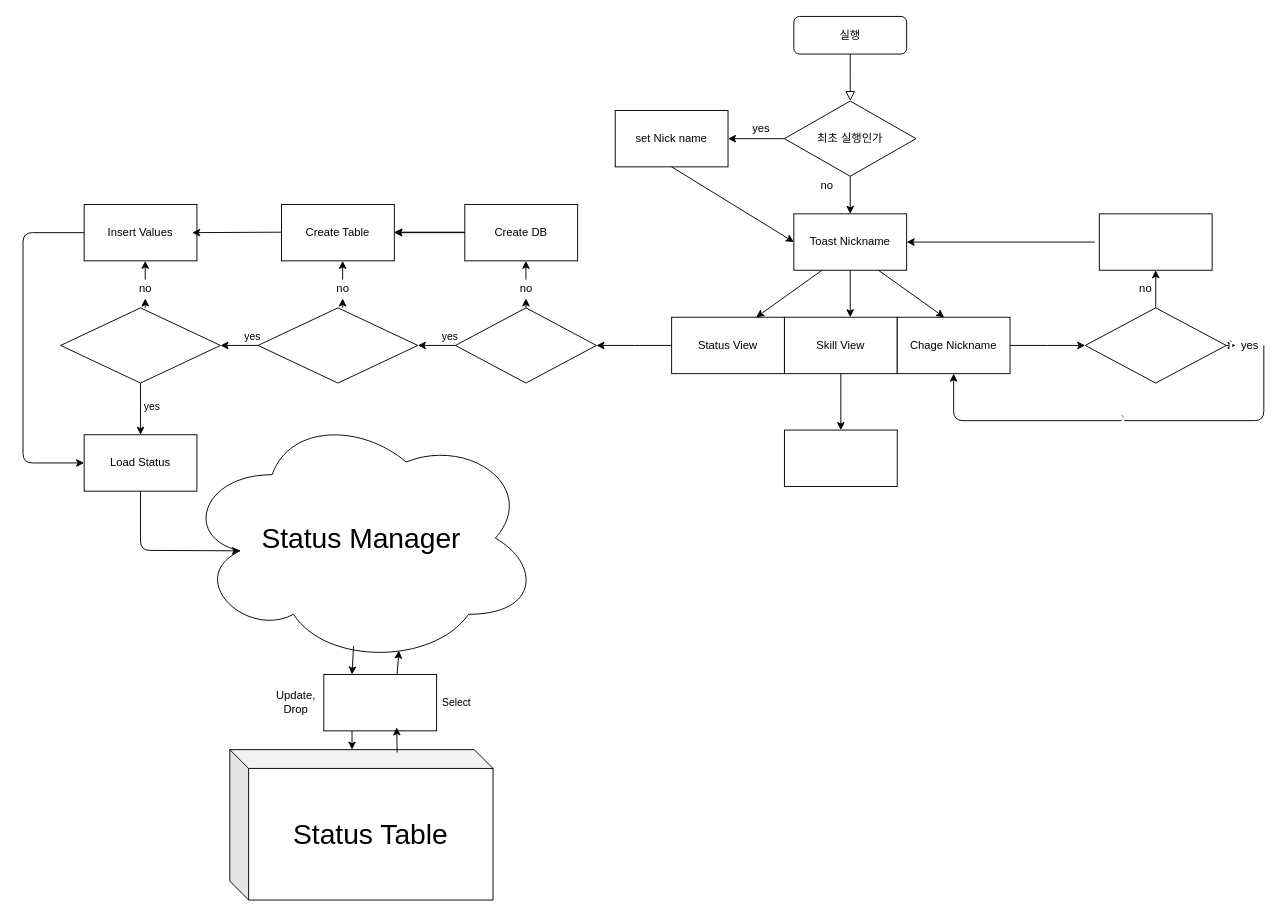
Image size: 1288x917. Some labels were removed from this diagram. Here are the shapes that lost their labels. From the top down, the centre of each, then its label:
At (x=1155, y=241): "set NickName".
At (x=140, y=345): "have Value".
At (x=337, y=345): "have Table".
At (x=525, y=345): "have DB".
At (x=1155, y=345): "is Nickname Empty?".
At (x=840, y=457): "미구현".
At (x=380, y=702): "DB Manager".
